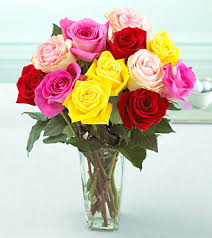lale: (61, 77, 114, 126), (59, 15, 113, 59), (119, 87, 169, 134), (36, 64, 80, 113), (31, 36, 82, 74), (84, 53, 131, 94), (124, 49, 164, 93), (164, 63, 201, 108), (16, 62, 50, 110), (142, 30, 181, 64), (109, 4, 158, 31), (105, 22, 144, 55)
